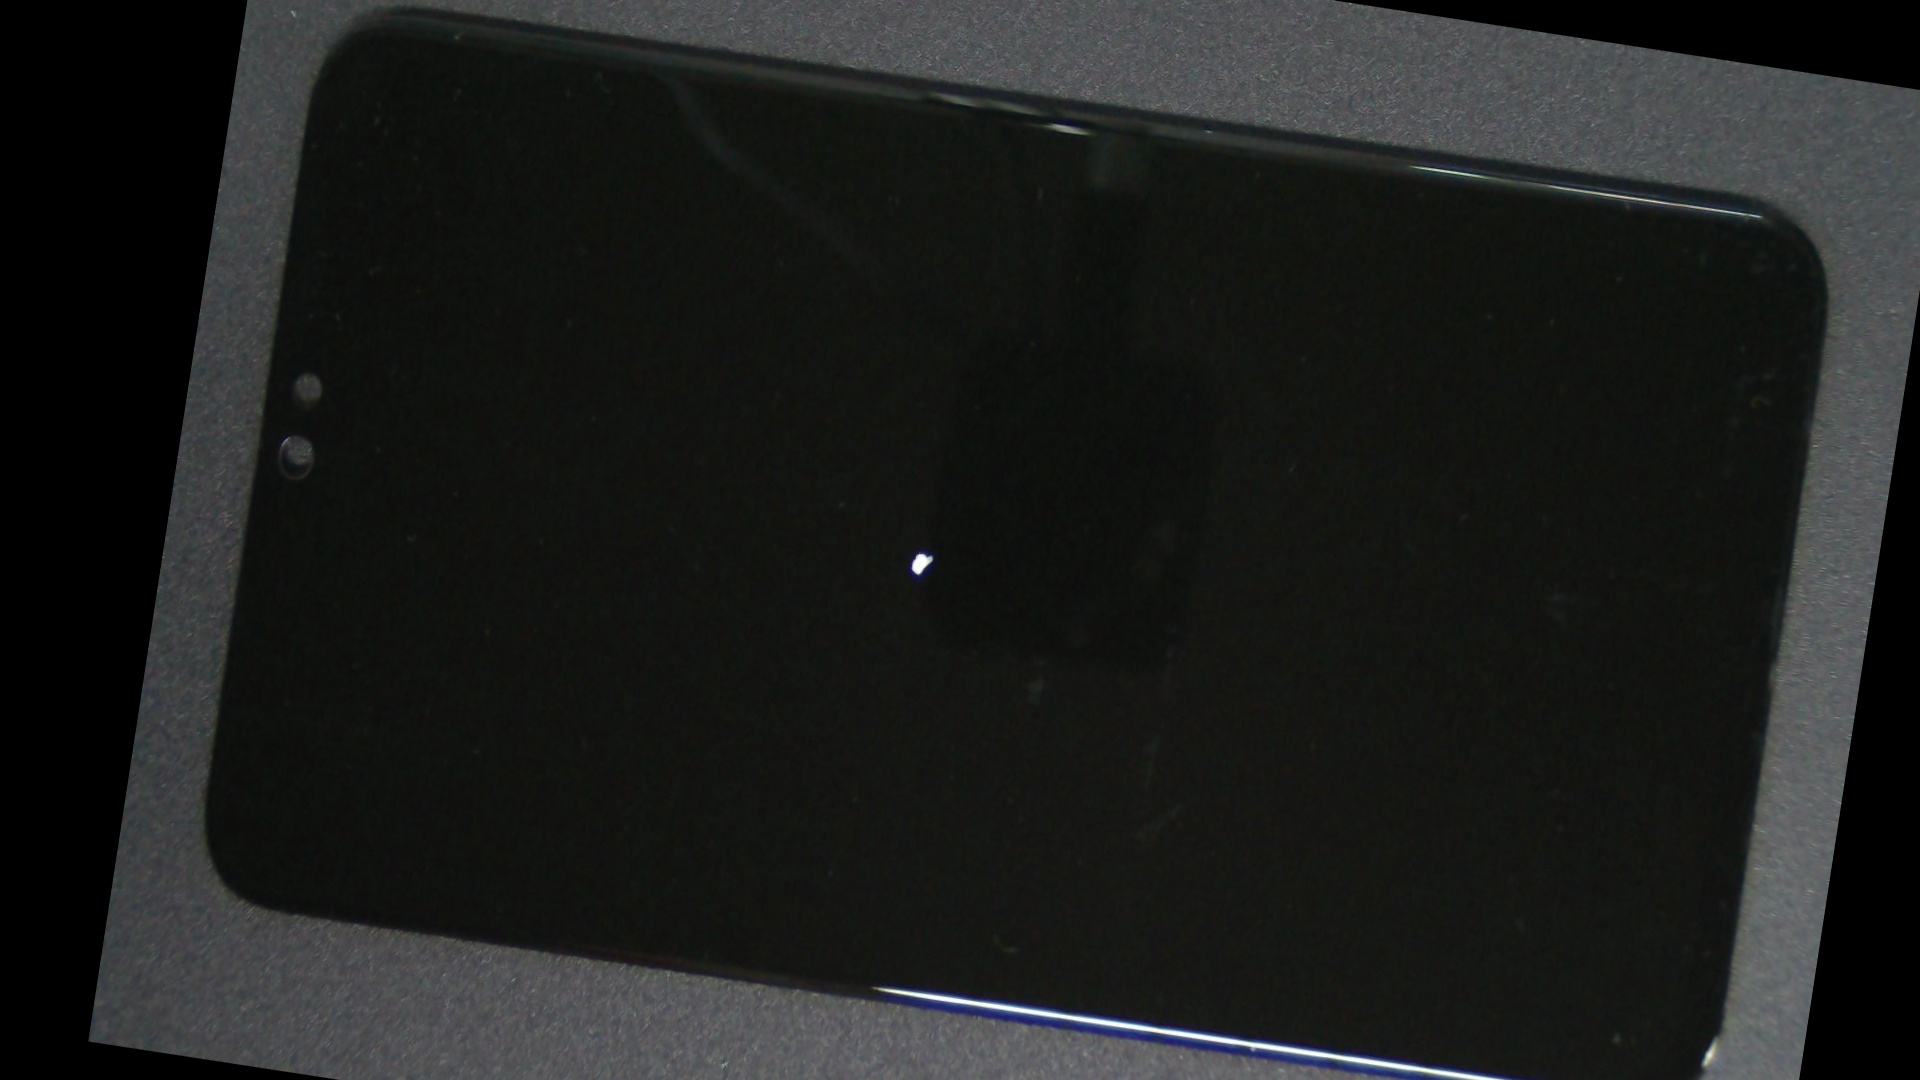oil: (505, 194, 1336, 909)
